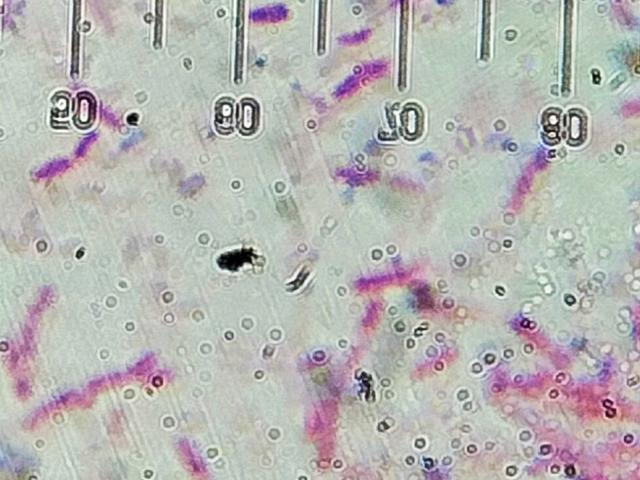E. coli: (82, 356, 166, 398), (496, 152, 549, 213), (19, 387, 84, 432), (335, 52, 392, 99), (311, 399, 344, 458), (21, 285, 55, 334), (418, 347, 461, 384), (353, 266, 419, 290), (85, 86, 124, 125), (353, 297, 386, 343), (526, 420, 570, 450), (253, 0, 297, 29), (302, 342, 345, 371), (3, 342, 27, 393), (568, 449, 616, 473), (512, 312, 540, 353), (173, 432, 202, 469), (72, 120, 103, 154), (573, 405, 630, 422), (609, 6, 638, 37), (338, 22, 373, 47), (566, 386, 621, 401), (36, 156, 73, 176), (619, 95, 640, 122), (523, 365, 550, 383)
